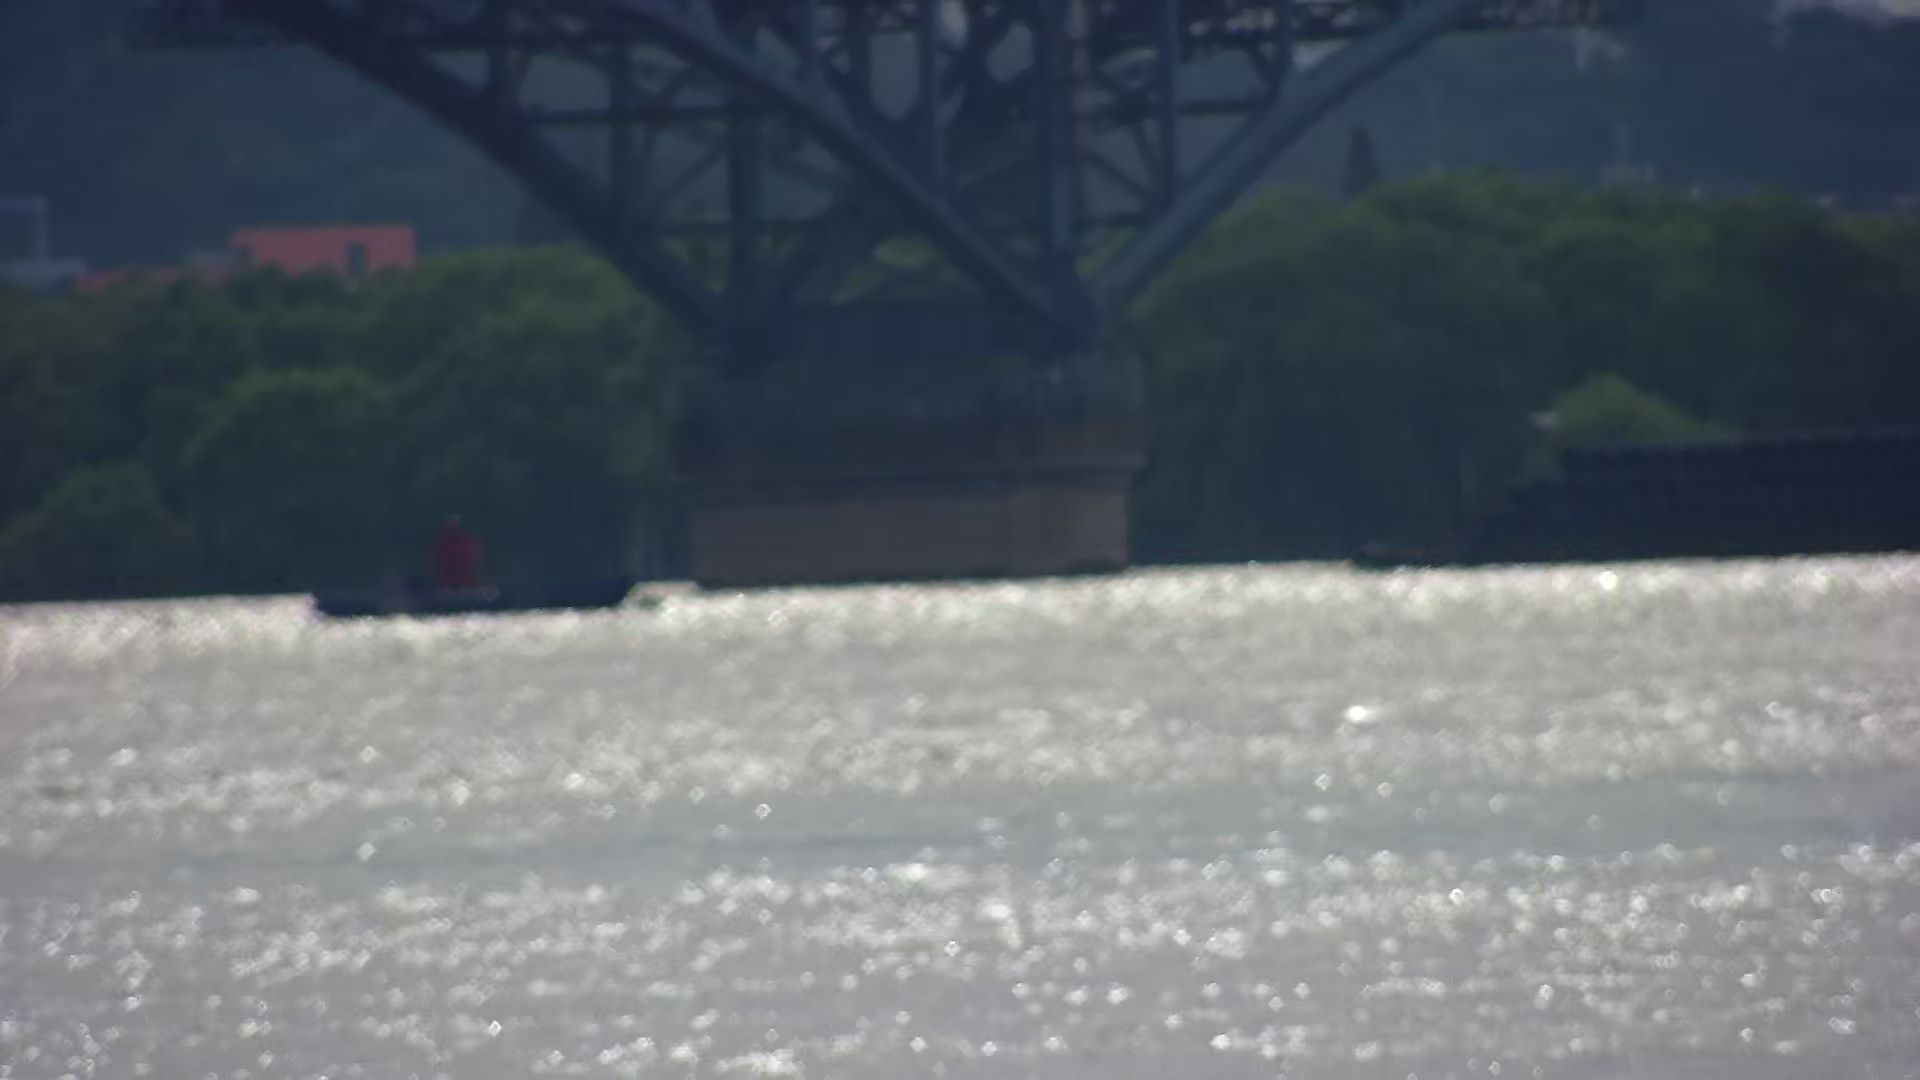boat: (305, 520, 667, 640)
bridge: (76, 1, 1731, 607)
